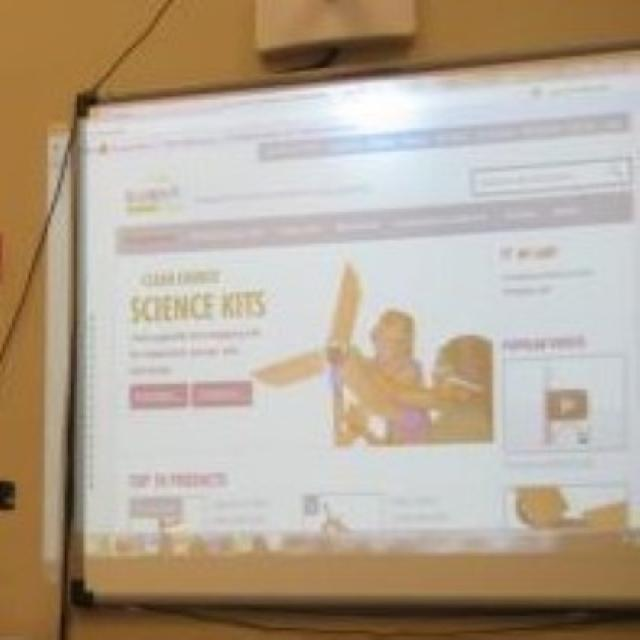Slide: (47, 75, 640, 568)
